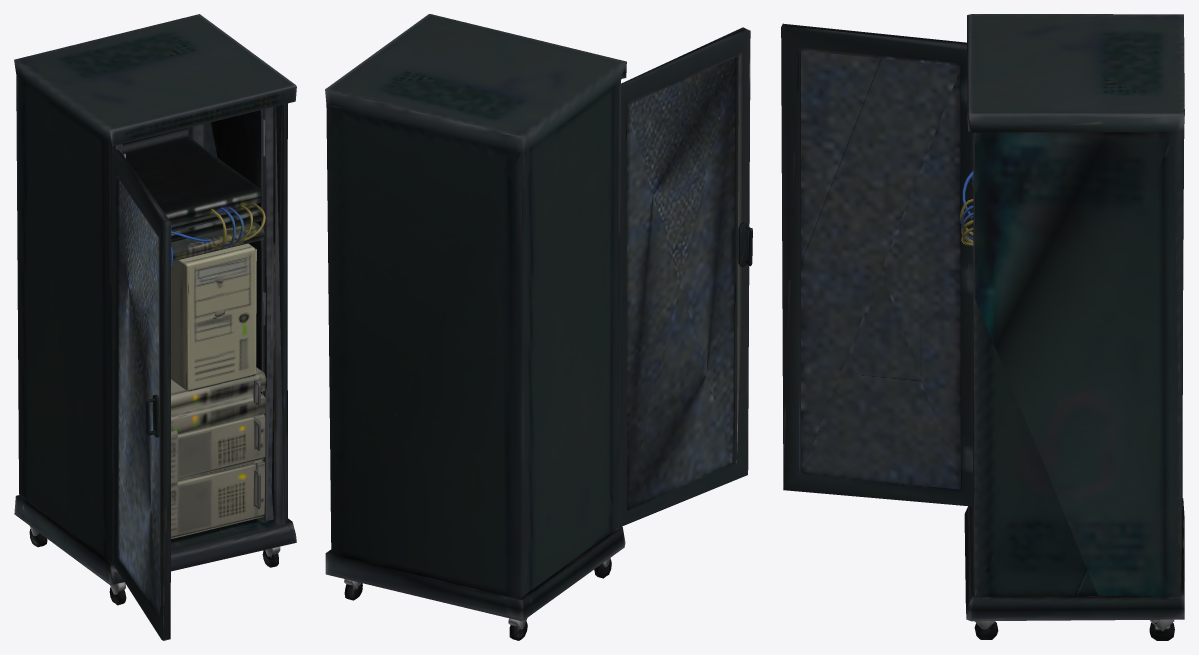
The model's file is radio_servidor.glb.
3 views of the same model, side by side, from view 1: azimuth 30°, elevation 25°; view 2: azimuth 150°, elevation 25°; view 3: azimuth 270°, elevation 25° (orthographic). The views are drawn at different scales.
Parts seen in each view (by area): view 1: geometry_0; view 2: geometry_0; view 3: geometry_0.
Part boxes in pixels (x1=…): geometry_0: x1=14, y1=14, x2=296, y2=640; geometry_0: x1=325, y1=14, x2=752, y2=640; geometry_0: x1=781, y1=14, x2=1184, y2=640.
Size of the model in its own units: 0.495 by 1 by 0.6863.
Materials: 1 (1 with a texture image).
